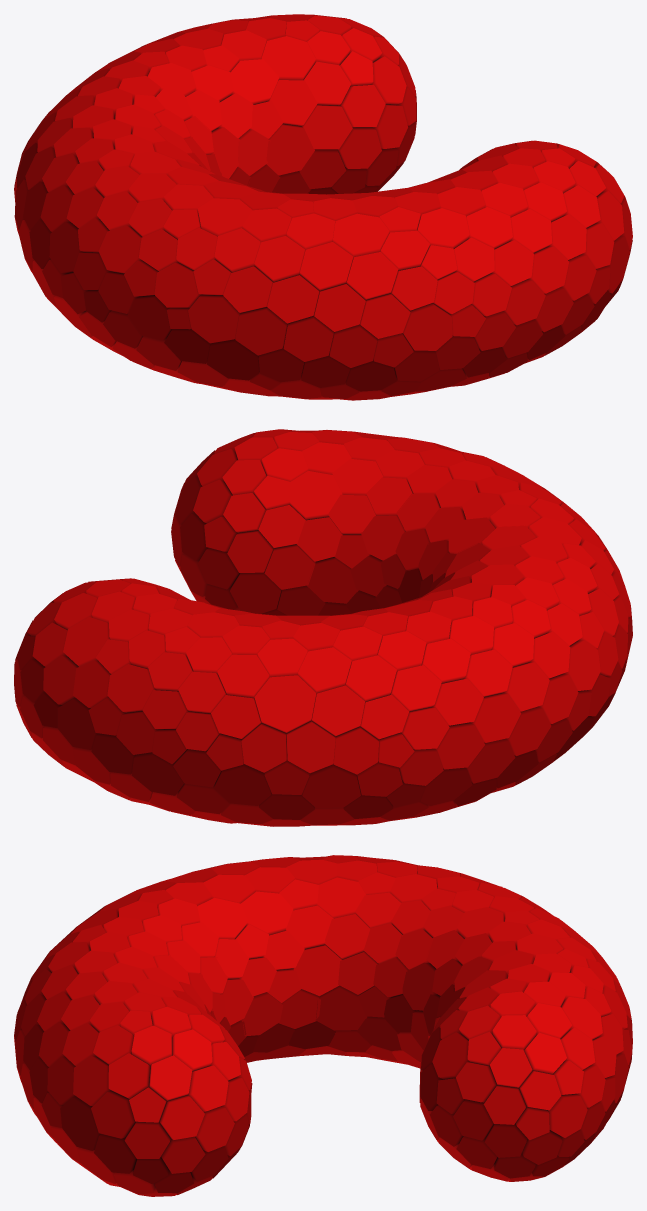
Rendered from Open_Torus.fbx.
3 renders of one model, top to bottom at view 1: azimuth 30°, elevation 25°; view 2: azimuth 150°, elevation 25°; view 3: azimuth 270°, elevation 25°, orthographic. The views are drawn at different scales.
Parts seen in each view (by area): view 1: OUT; view 2: OUT; view 3: OUT.
Boxes of the visible parts, x1=… form: OUT: x1=14, y1=14, x2=632, y2=400; OUT: x1=14, y1=429, x2=632, y2=826; OUT: x1=14, y1=855, x2=632, y2=1196.
Bounding box in the file's own units: 4.6 × 1.72 × 5.3.
